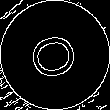O_E: (24, 27, 86, 83)
